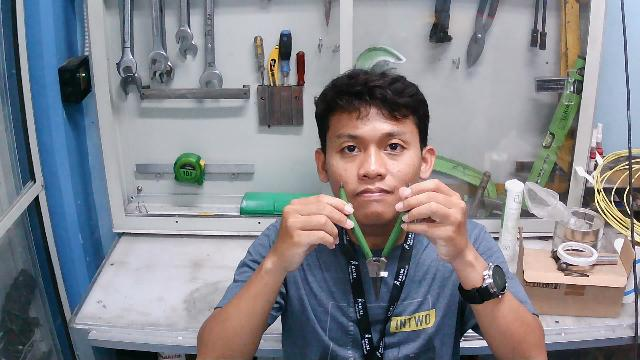tang_cucut_lancip_2: (333, 181, 414, 301)
